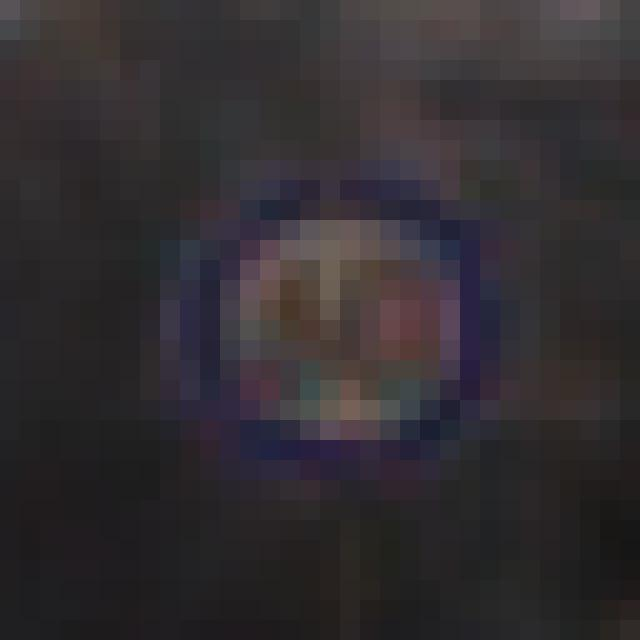SPEED-LIMIT-60: (155, 146, 519, 495)
